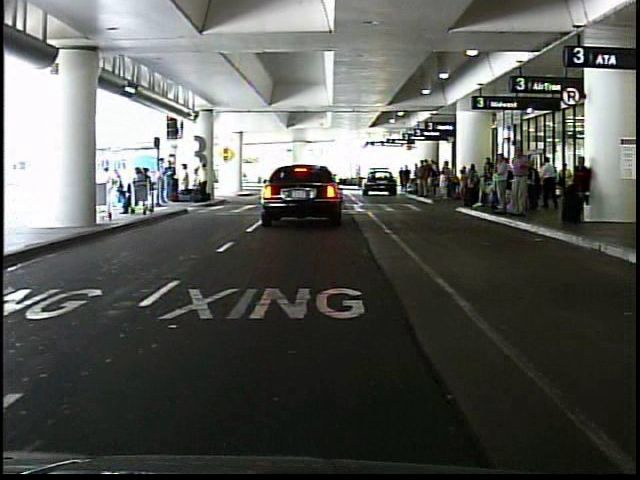person: (506, 139, 535, 223), (562, 151, 592, 227), (536, 153, 560, 213), (491, 151, 510, 215), (104, 158, 124, 215), (165, 155, 179, 203), (195, 158, 209, 201), (180, 161, 193, 201)
